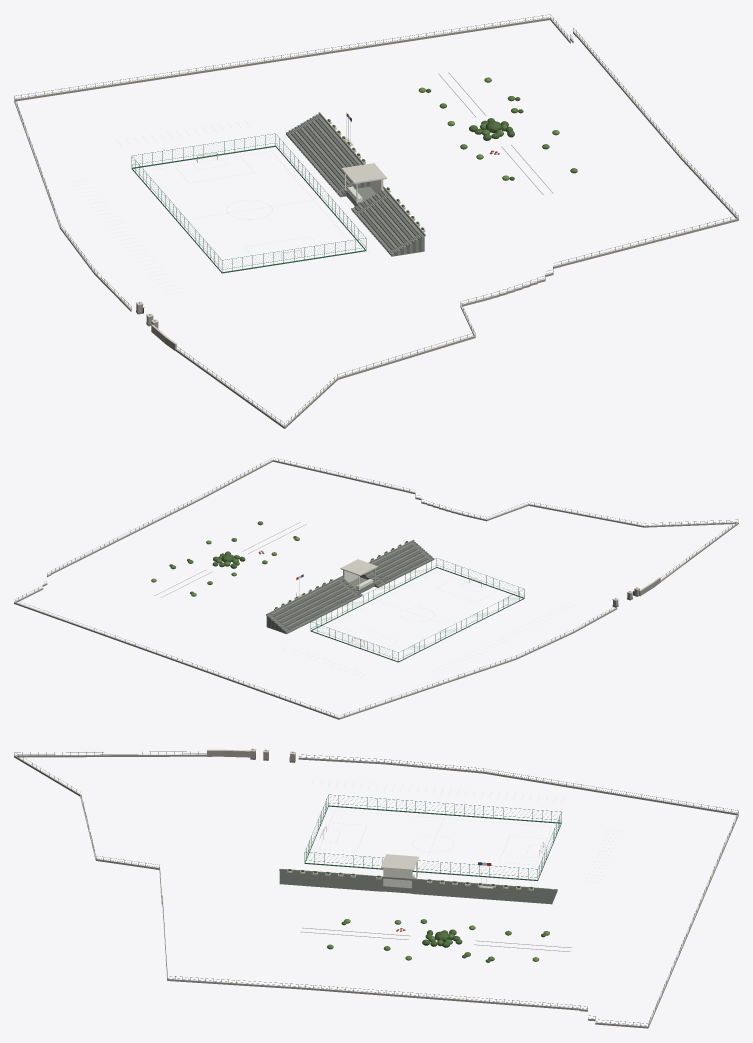
3 views of the same model, one above another, from view 1: azimuth 30°, elevation 25°; view 2: azimuth 150°, elevation 25°; view 3: azimuth 270°, elevation 25° (orthographic). The views are drawn at different scales.
Visible parts, largest first — view 1: prop_boundary-fence, prop_stand, prop_field-fence, prop_stand-podium, prop_garden-topiary; view 2: prop_boundary-fence, prop_stand, prop_field-fence, prop_stand-podium, prop_garden-topiary, prop_stand-planters; view 3: prop_boundary-fence, prop_stand, prop_field-fence, prop_stand-podium, prop_garden-topiary, prop_stand-planters, prop_garden-paths.
Boxes of the visible parts, bbox=[...] form: prop_boundary-fence: bbox=[14, 14, 738, 428]; prop_stand: bbox=[286, 114, 424, 256]; prop_field-fence: bbox=[131, 133, 366, 273]; prop_stand-podium: bbox=[341, 163, 386, 206]; prop_garden-topiary: bbox=[418, 77, 577, 180]; prop_boundary-fence: bbox=[14, 457, 738, 719]; prop_stand: bbox=[266, 541, 434, 634]; prop_field-fence: bbox=[310, 558, 524, 662]; prop_stand-podium: bbox=[340, 559, 377, 593]; prop_garden-topiary: bbox=[151, 521, 299, 596]; prop_stand-planters: bbox=[266, 540, 414, 615]; prop_boundary-fence: bbox=[14, 749, 738, 1028]; prop_stand: bbox=[279, 869, 557, 904]; prop_field-fence: bbox=[304, 794, 561, 880]; prop_stand-podium: bbox=[381, 854, 418, 893]; prop_garden-topiary: bbox=[327, 919, 549, 962]; prop_stand-planters: bbox=[279, 869, 552, 890]; prop_garden-paths: bbox=[300, 927, 571, 951].
Bounding box in the file's own units: 205 × 13.8 × 231.
